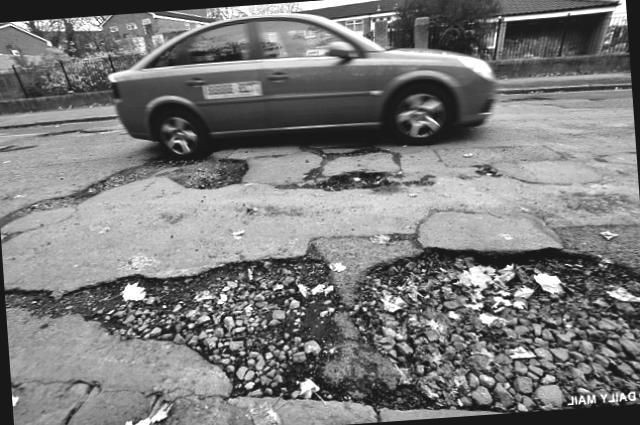Pothole: (20, 219, 640, 425), (0, 121, 263, 237), (282, 160, 426, 204)
